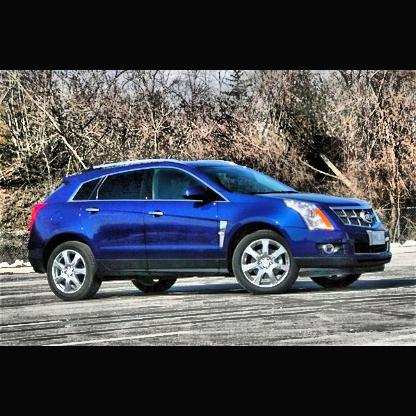Cadillac SRX SUV 2012: (30, 161, 393, 304)
